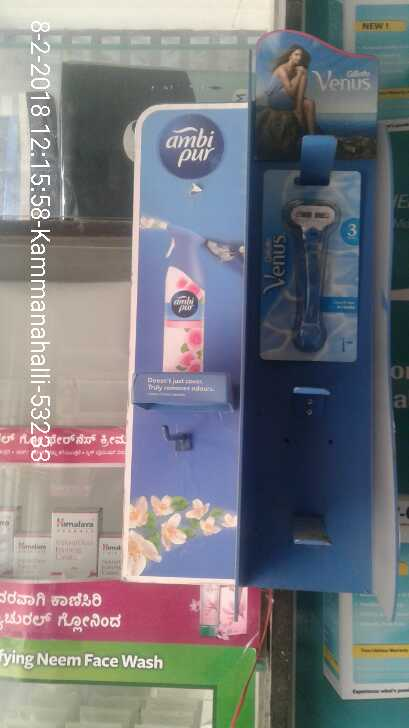venus: (262, 163, 358, 363)
